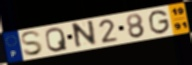2: (98, 19, 120, 44)
8: (125, 13, 146, 39)
G: (148, 8, 172, 35)
N: (72, 19, 98, 51)
Q: (45, 26, 70, 53)
S: (19, 30, 45, 57)
